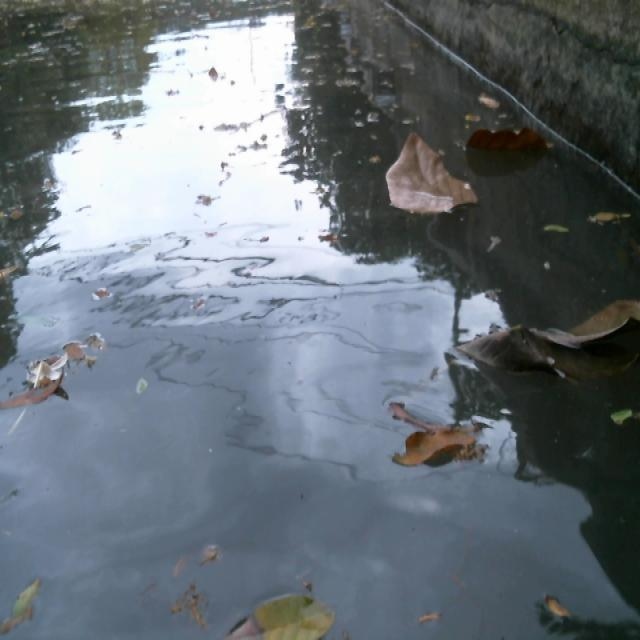Big-leaf: (447, 290, 640, 389), (371, 394, 496, 489), (377, 136, 477, 219), (466, 127, 562, 160)
Small-leaf: (0, 326, 115, 423), (218, 588, 333, 640), (0, 572, 41, 640), (542, 591, 584, 637), (587, 211, 640, 239), (533, 213, 578, 236), (453, 101, 492, 127), (605, 404, 635, 431), (471, 89, 502, 110)
